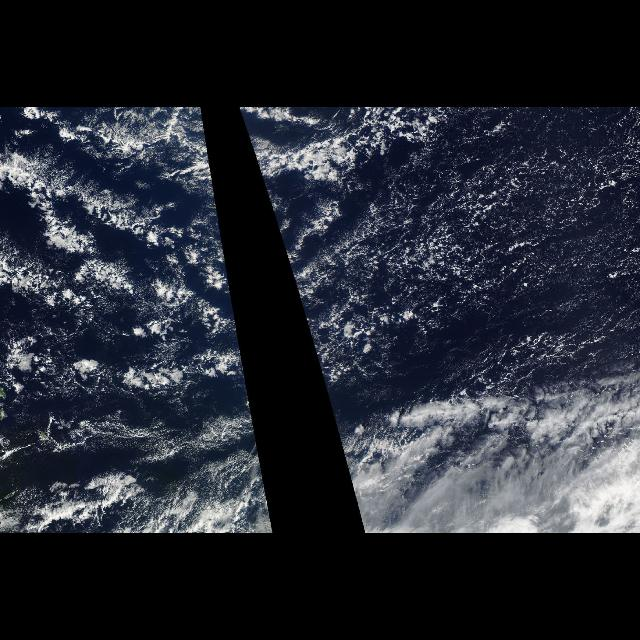Fish: (6, 125, 242, 453)
Gravel: (317, 118, 639, 422)
Sugar: (336, 141, 604, 319)
